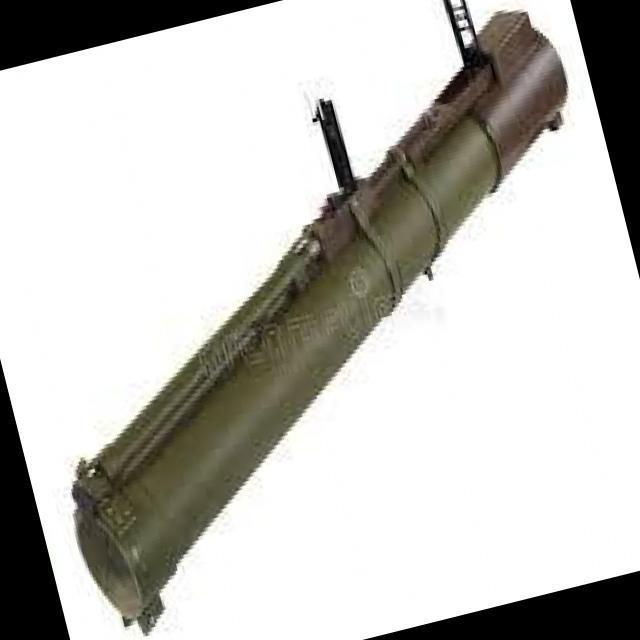rocket: (0, 0, 640, 632)
